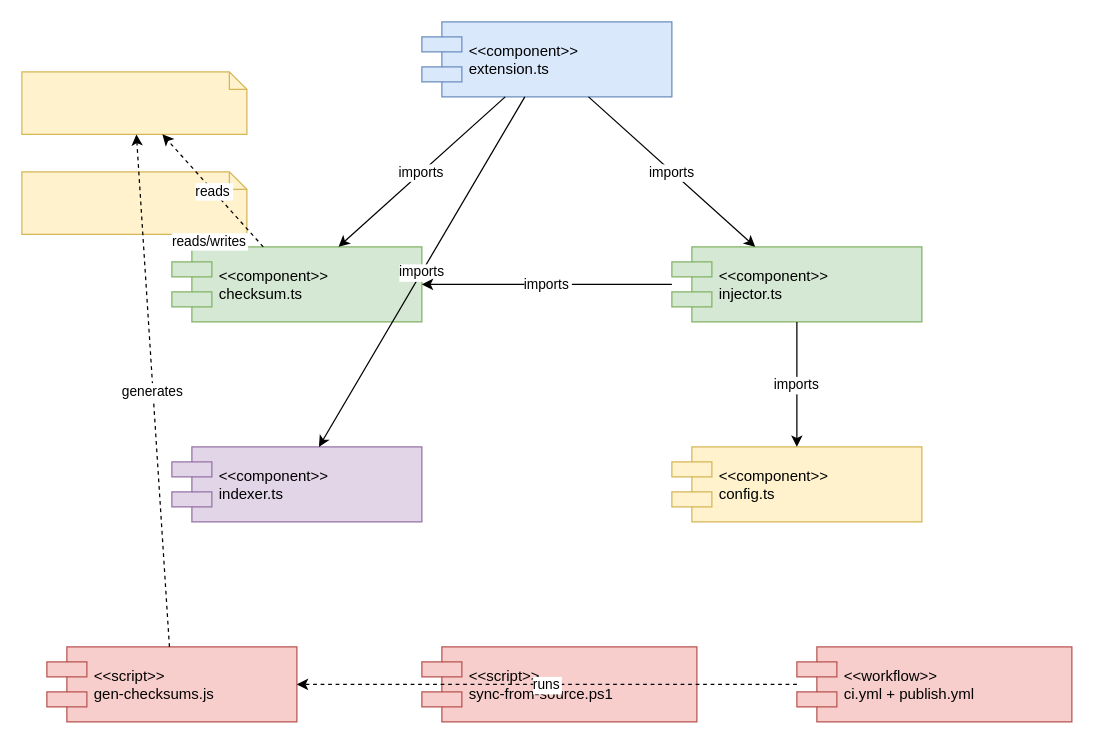
This 1094x744 diagram has some shape labels left out. The centre of each missing label's shape, as x and y in pixels:
.sdlc-checksums.json (Bundled Manifest): the point at 134,102
.sdlc-manifest.json (Workspace Manifest): the point at 134,202
